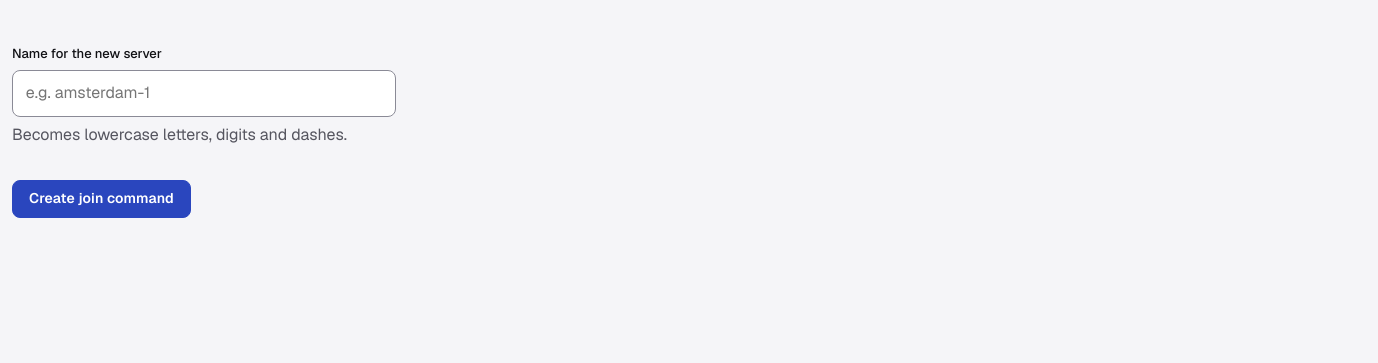
Test: AddServerForm › offers to rebuild a server whose name is taken
Type "netherlands" into the field labelled "Name for the new server" at (204,94), box [12,70,396,117]
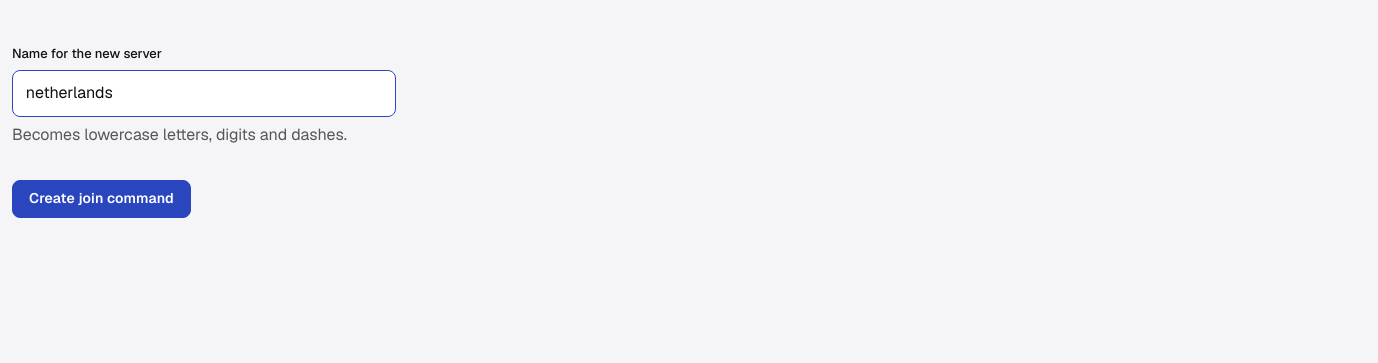
Click the button "Create join command" at (101,199), box [12,180,191,218]
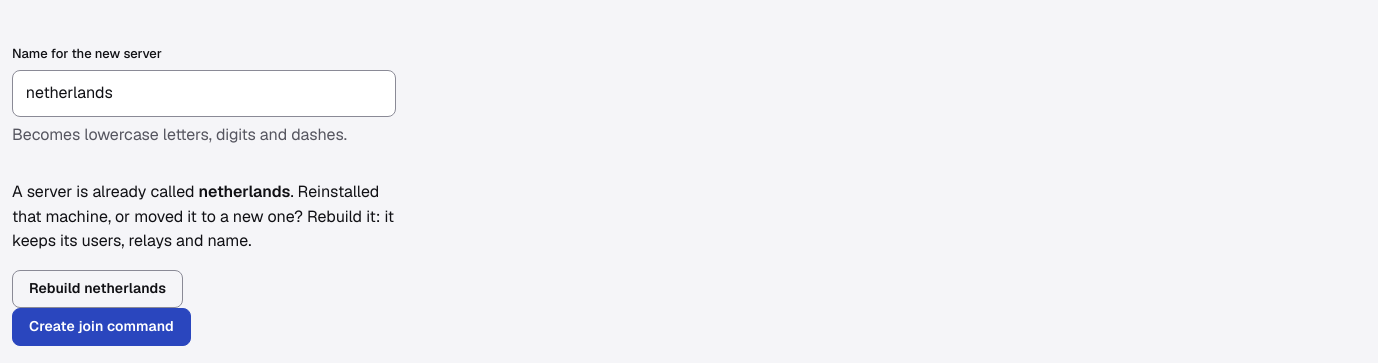
Click the button "Rebuild netherlands" at (98,289), box [12,270,183,308]
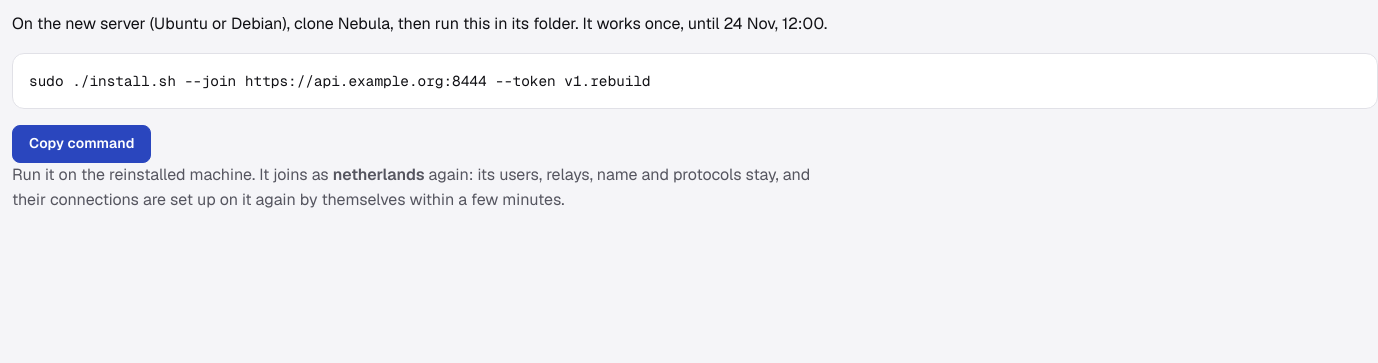
Check: the text named "Command for the new server" shows "--token v1.rebuild", box [29,72,651,90]
Check: the text "its users, relays, name" is shown, box [12,164,810,210]
